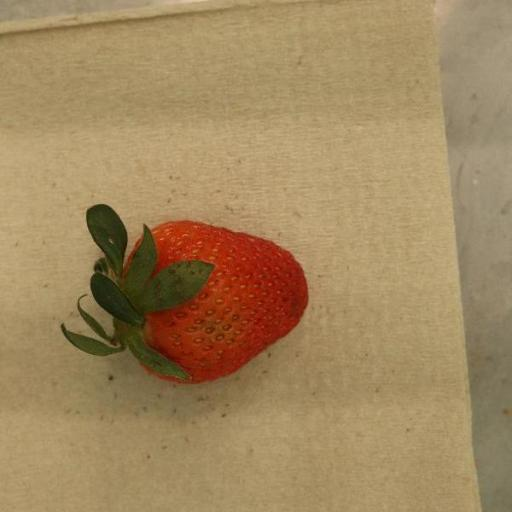Strawberry: (60, 204, 308, 384)
